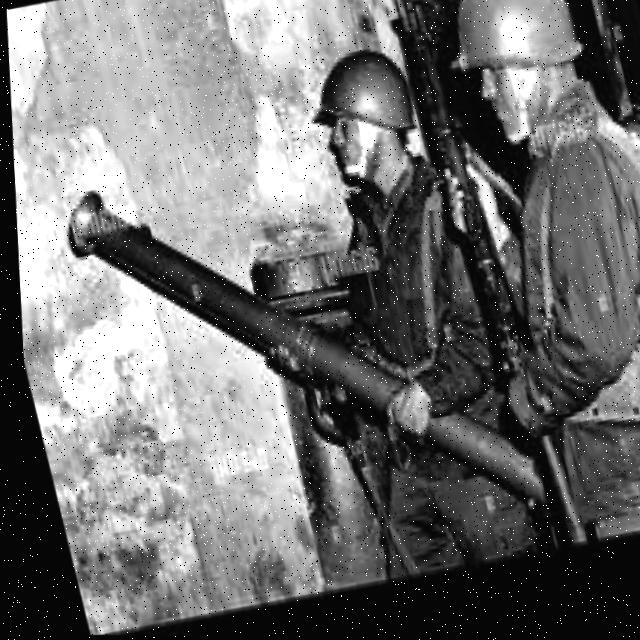rocket: (45, 109, 564, 597)
